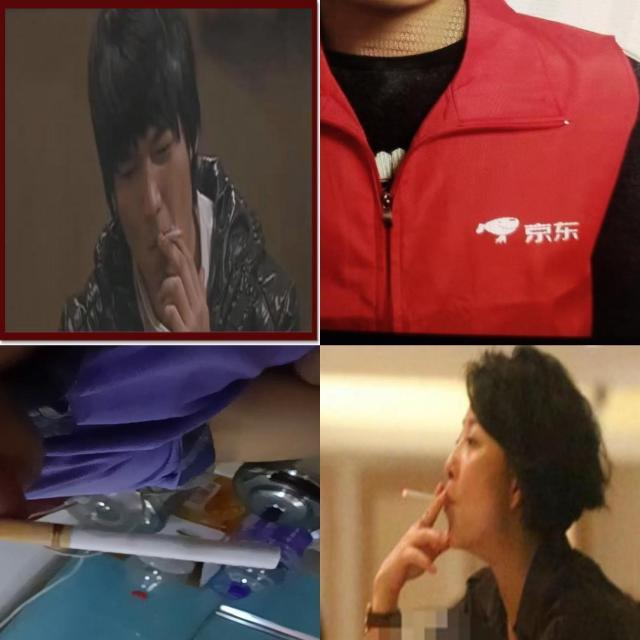smoking: (0, 519, 284, 570), (402, 486, 436, 504), (163, 228, 182, 242)
